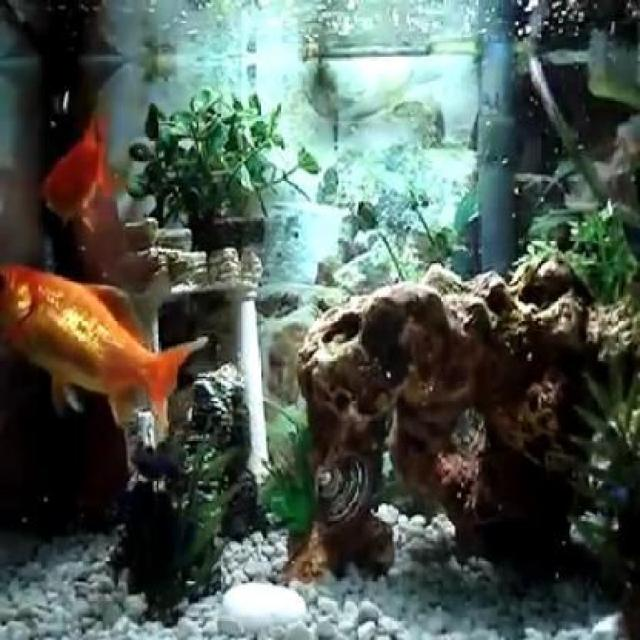GoldFish: (1, 262, 207, 436)
